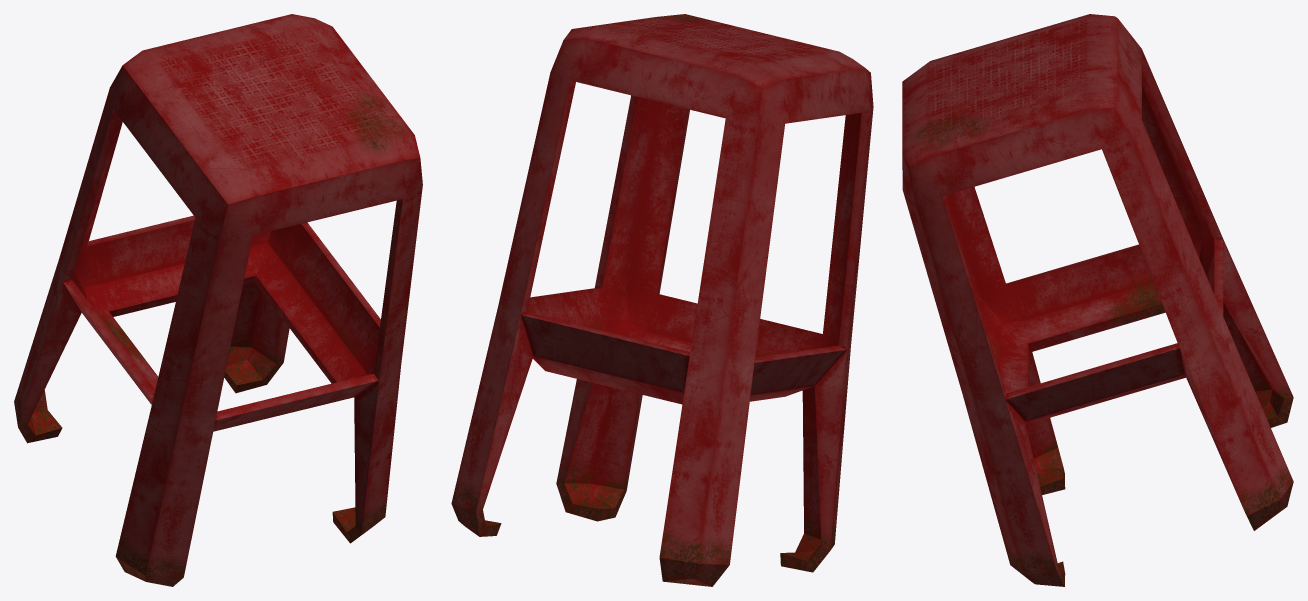
File: plastic stool.gltf
The picture shows the model from 3 angles, left to right: view 1: azimuth 30°, elevation 25°; view 2: azimuth 150°, elevation 25°; view 3: azimuth 270°, elevation 25°; orthographic projection. The views are drawn at different scales.
Visible parts, largest first — view 1: pCube63; view 2: pCube63; view 3: pCube63.
Boxes of the visible parts, x1,y1,x2,y2 form: pCube63: (14,14,422,586); pCube63: (451,14,873,586); pCube63: (902,14,1293,586).
Bounding box in the file's own units: 0.6117 × 1.1 × 0.8034.
1 material, 1 textured.
